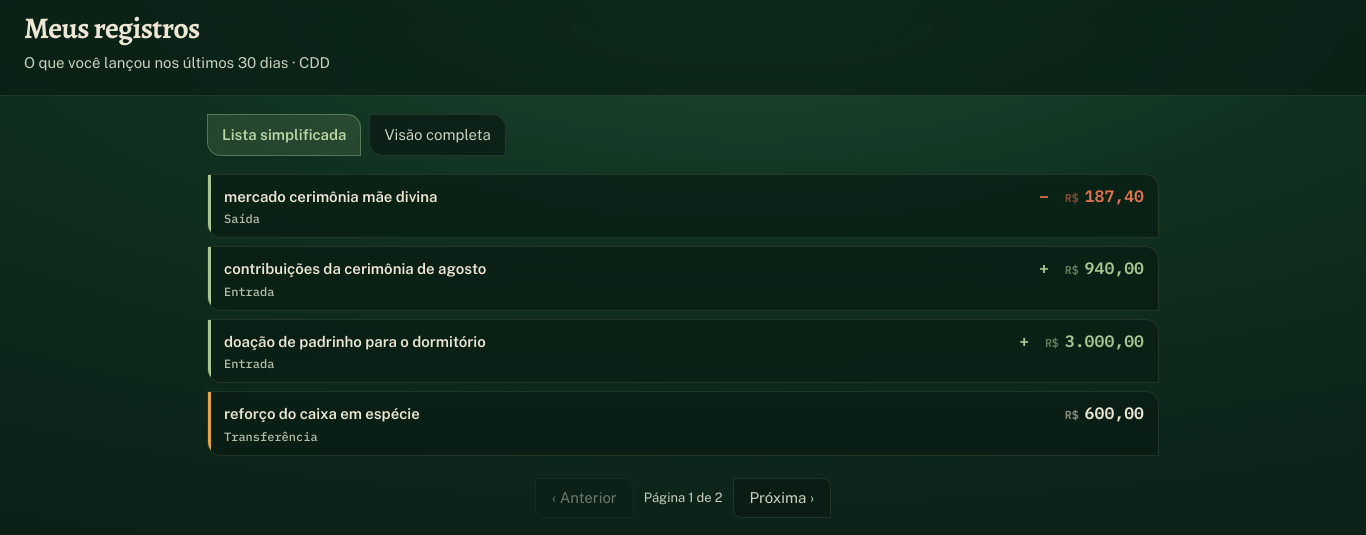
Test: MeusRegistrosPage: paginação da lista › próxima — vai para a segunda página, a última, e desliga a próxima
What coordinates should you click on to do the following:
click the button with aria-label "Próxima página"
I would click on:
 (782, 498)
Its box is [732, 478, 831, 518].
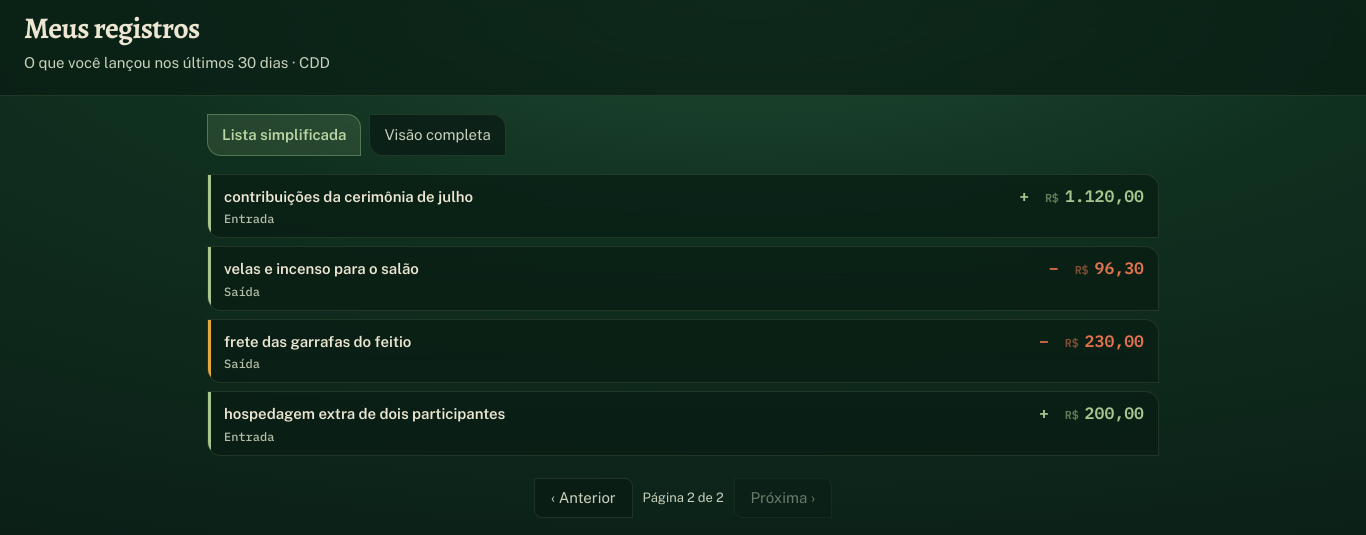
Result: the text "Página 2 de 2" is shown at [642, 489, 724, 507]
Result: the button with aria-label "Próxima página" is disabled at [734, 478, 832, 518]
